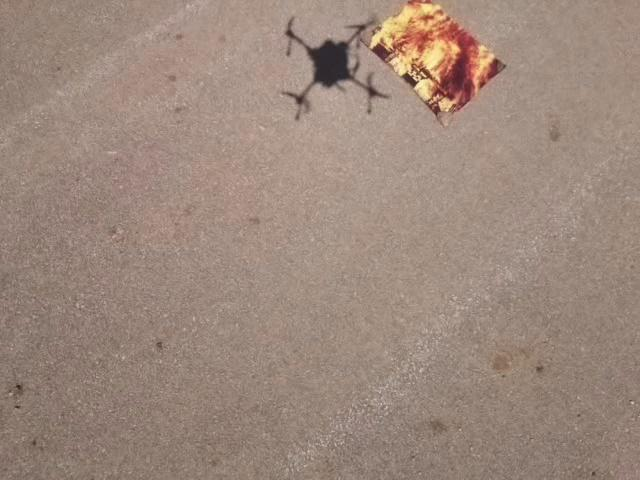fire-poster: (365, 0, 507, 128)
